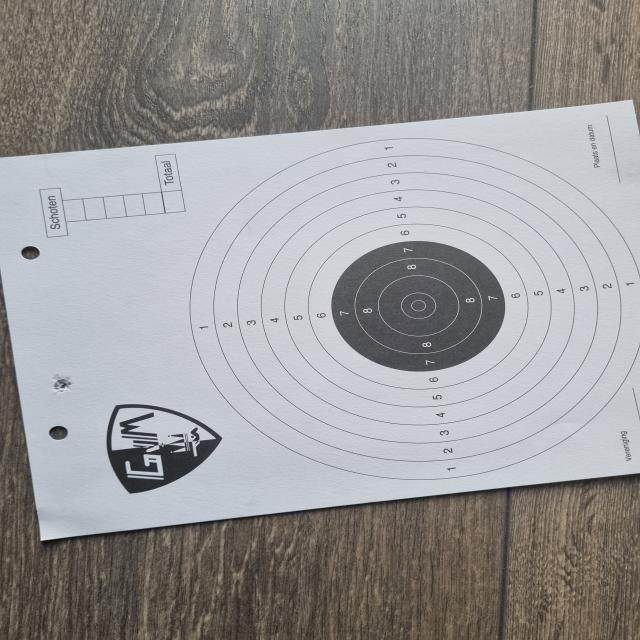0: (52, 374, 72, 394)
Target: (189, 136, 640, 482)
black_contour: (332, 240, 506, 373)
